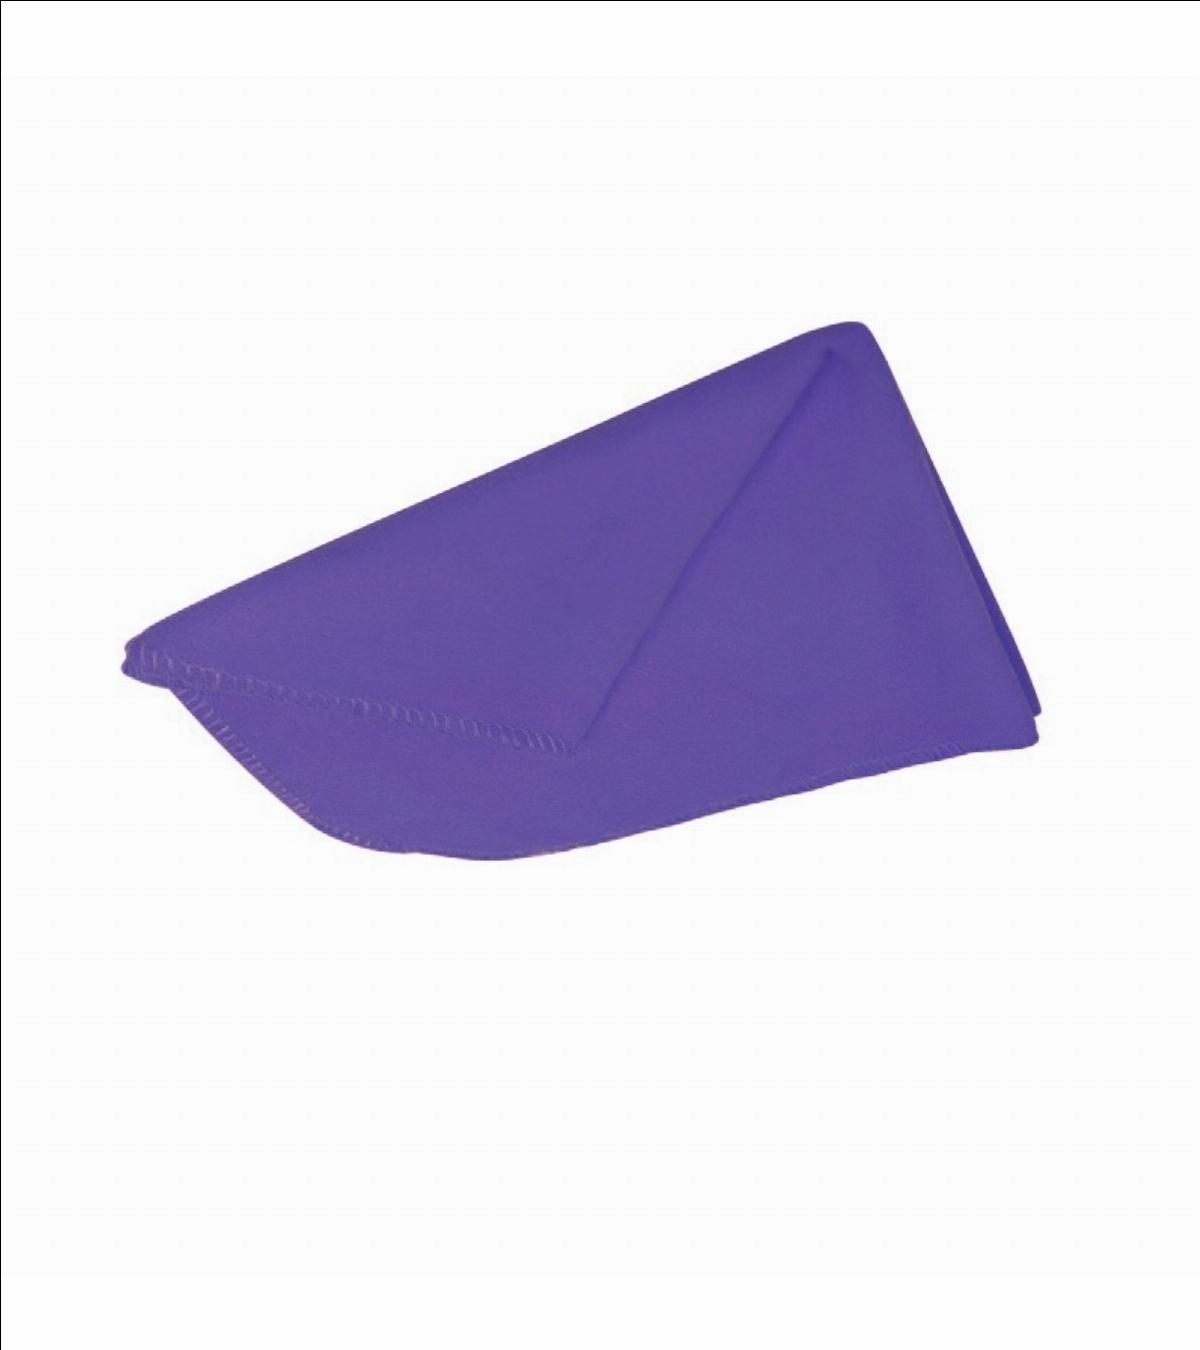towel: (73, 273, 1104, 937)
